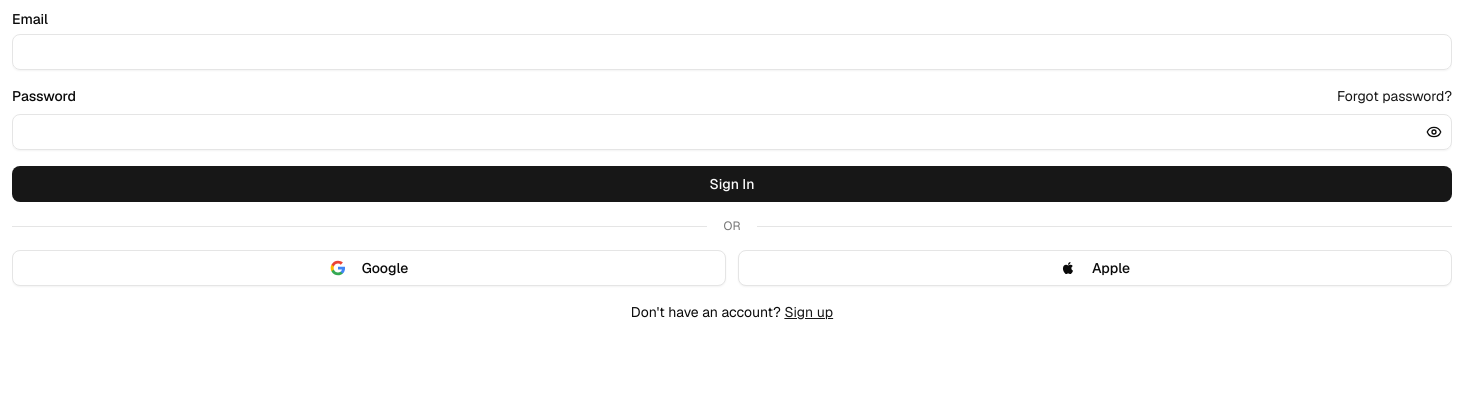
LoginForm › displays rate limit error
The image size is (1464, 397).
Type "test@example.com" into the field labelled "Email".
click(732, 52); type("test@example.com")  # box [12,34,1452,70]
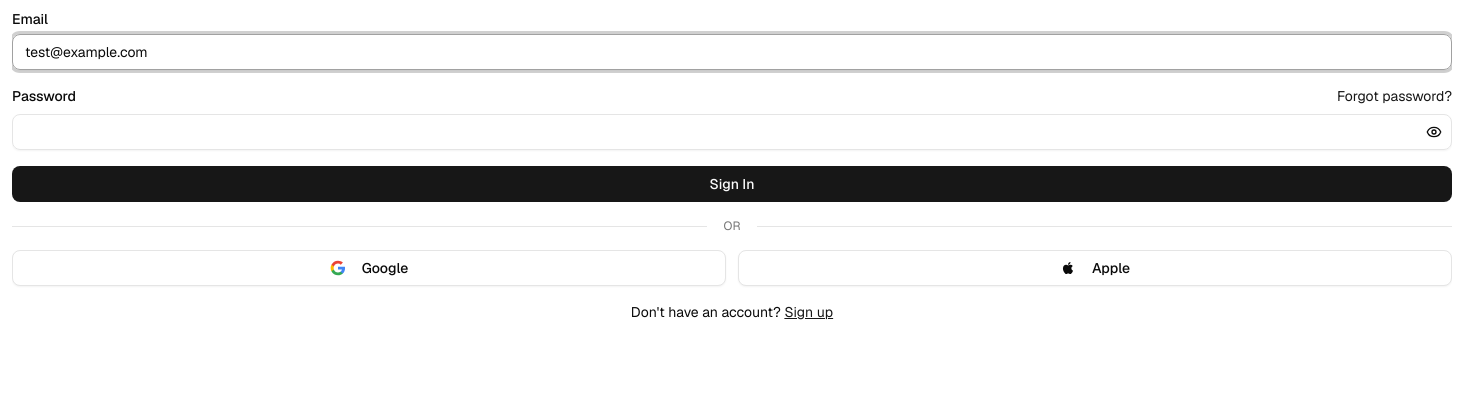
Type "password123" into the password field labelled "Password".
click(732, 132); type("password123")  # box [12,114,1452,150]
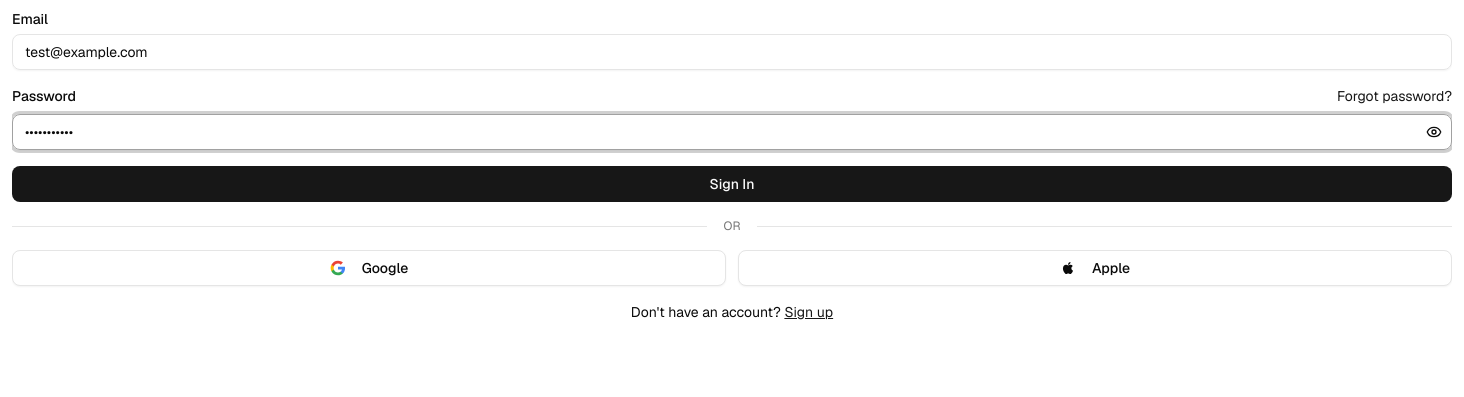
Click the button "Sign In".
click(732, 184)  # box [12,166,1452,202]
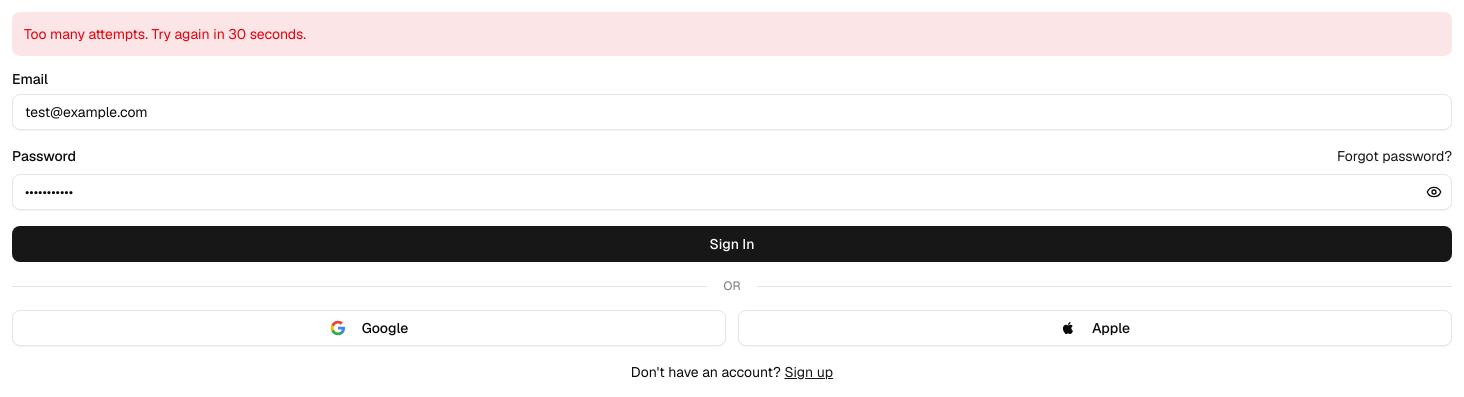
Expected: the text "Too many attempts. Try again in 30 seconds." is shown, [12,12,1452,56]
